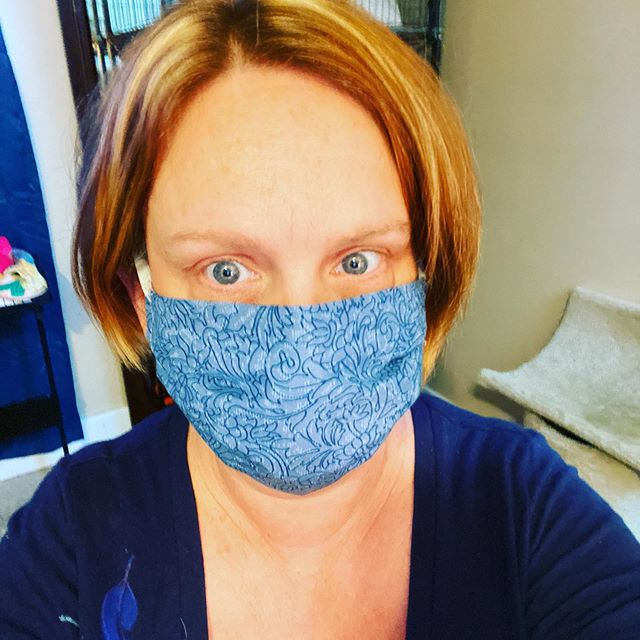homemade: (121, 275, 478, 494)
